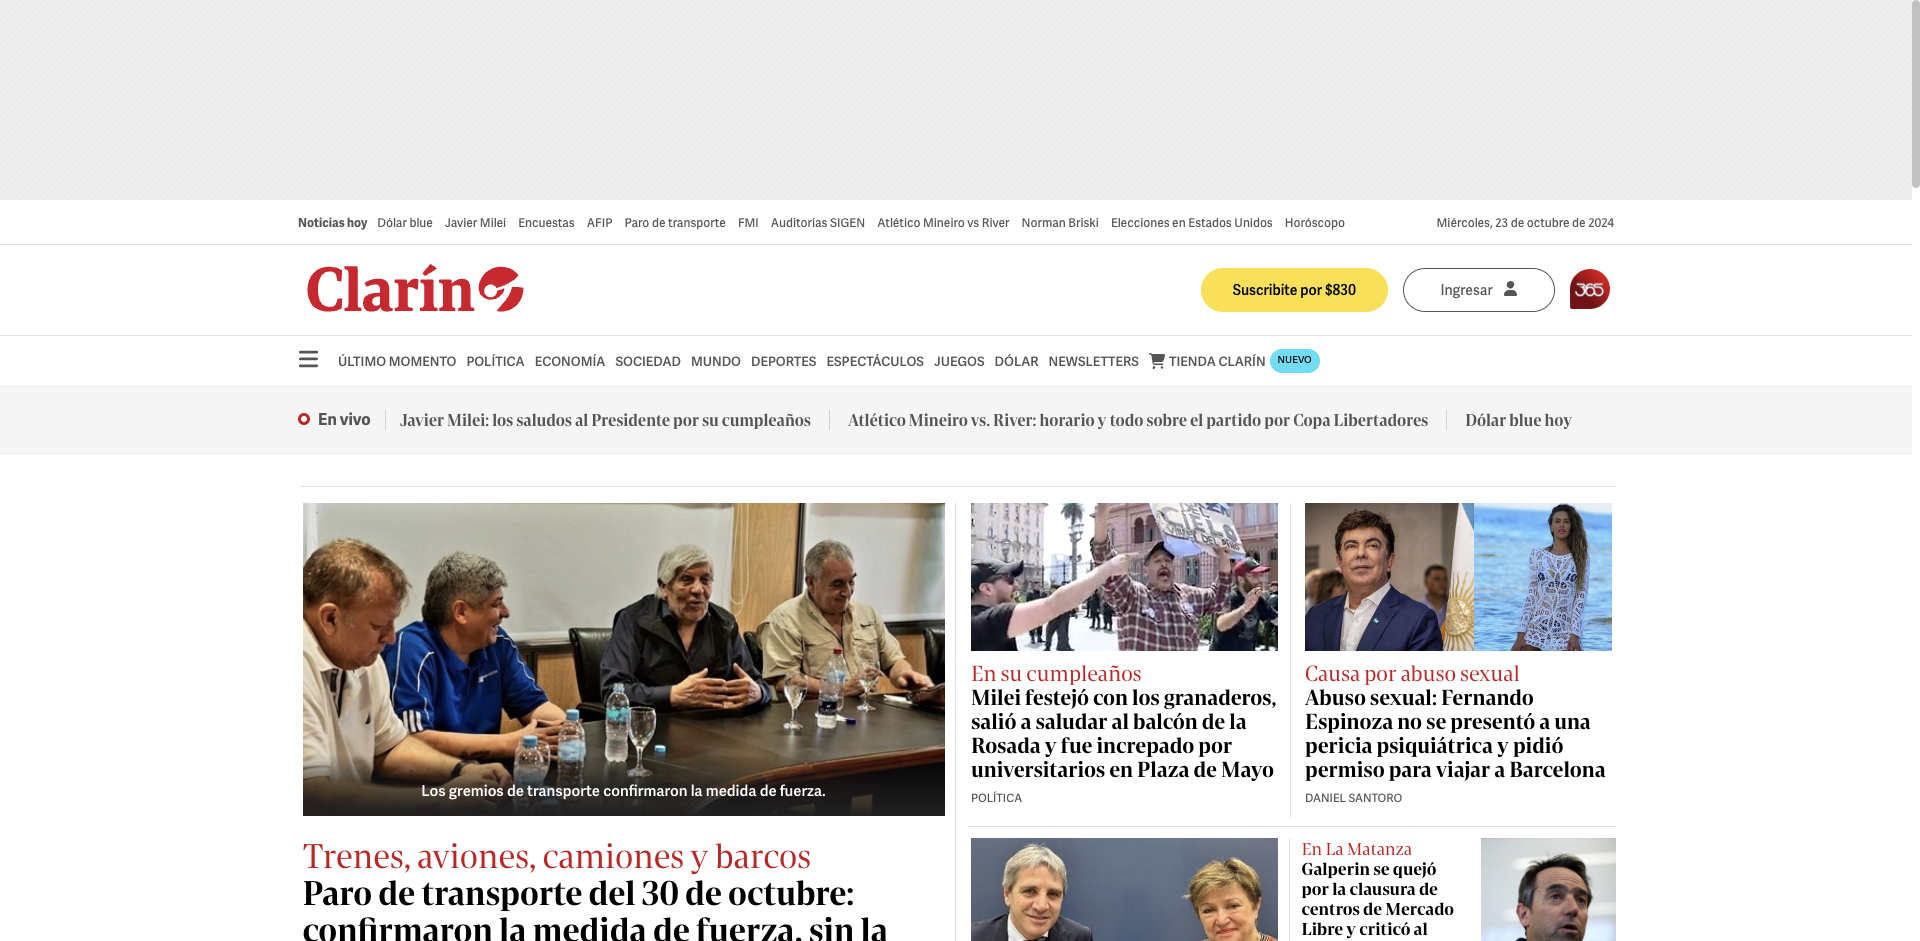button: (1403, 268, 1555, 312)
dropdown: (298, 584, 596, 642), (298, 877, 596, 935), (298, 821, 596, 877), (298, 935, 596, 941)
label: (298, 348, 323, 372)
link: (300, 504, 948, 941), (967, 504, 1282, 818), (1302, 504, 1615, 818), (967, 838, 1282, 941), (1302, 838, 1615, 941), (302, 263, 530, 316), (322, 406, 572, 450), (847, 412, 1428, 428), (1201, 268, 1389, 312), (399, 412, 811, 428), (336, 669, 572, 685), (336, 703, 572, 719), (336, 739, 572, 755), (336, 773, 572, 789), (336, 809, 572, 825), (336, 843, 572, 859), (336, 879, 572, 894), (336, 904, 572, 920), (322, 723, 462, 739), (322, 662, 460, 678), (1111, 217, 1272, 228), (1570, 268, 1614, 309), (322, 548, 429, 564), (1466, 412, 1572, 428), (338, 354, 457, 368), (877, 217, 1009, 228), (827, 354, 924, 368), (1169, 354, 1266, 368), (322, 897, 398, 914), (1048, 354, 1139, 368), (322, 783, 391, 800), (624, 217, 726, 228), (770, 217, 866, 228), (535, 354, 605, 368), (322, 604, 381, 620), (751, 354, 817, 368), (616, 354, 681, 368), (1021, 217, 1098, 228), (467, 354, 524, 368), (322, 490, 367, 506), (691, 354, 741, 368), (934, 354, 984, 368), (444, 217, 506, 228), (1284, 217, 1344, 228), (518, 217, 574, 228), (377, 217, 432, 228), (994, 354, 1038, 368), (336, 940, 572, 941), (587, 217, 612, 228), (738, 217, 759, 228)
